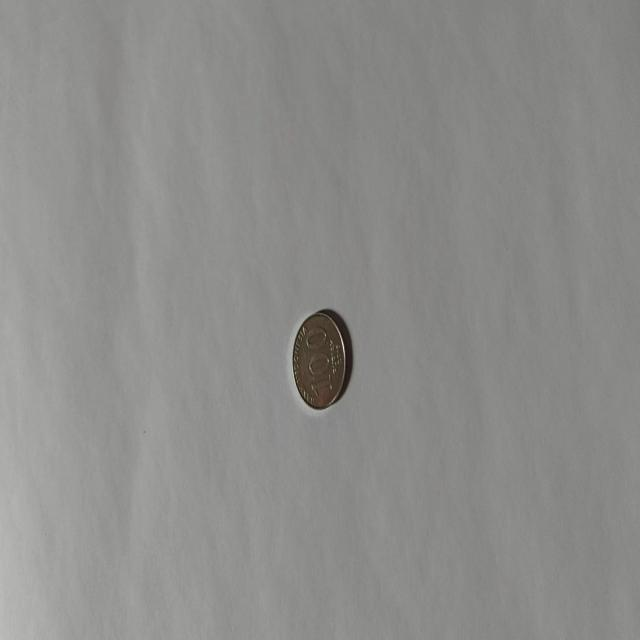seratus rupiah: (291, 310, 347, 410)
